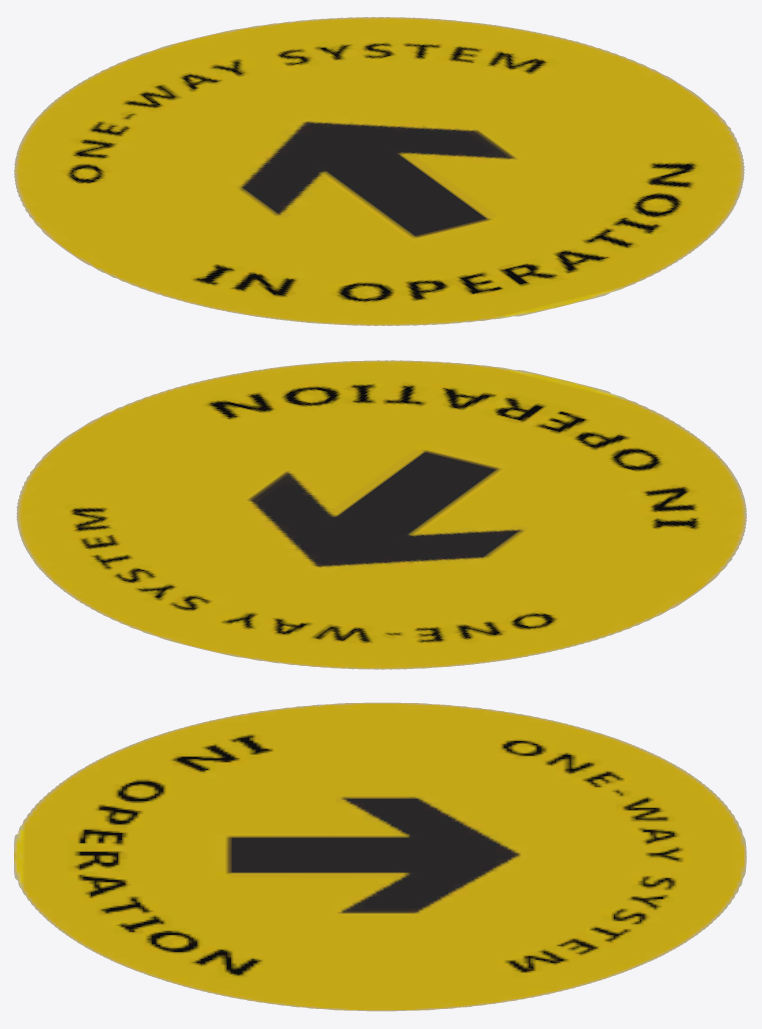
The model's file is SM_Sign_Floor_Covid_06.glb.
3 views of the same model, one above another, from view 1: azimuth 30°, elevation 25°; view 2: azimuth 150°, elevation 25°; view 3: azimuth 270°, elevation 25° (orthographic).
Parts seen in each view (by area): view 1: SM_Sign_Floor_Covid_06; view 2: SM_Sign_Floor_Covid_06; view 3: SM_Sign_Floor_Covid_06.
Part boxes in pixels (x1,y1,x2,y2): SM_Sign_Floor_Covid_06: (14,17,744,325); SM_Sign_Floor_Covid_06: (16,360,746,669); SM_Sign_Floor_Covid_06: (14,702,746,1011).
Size of the model in its own units: 0.4461 by 0 by 0.4393.
Materials: 1 (1 with a texture image).
